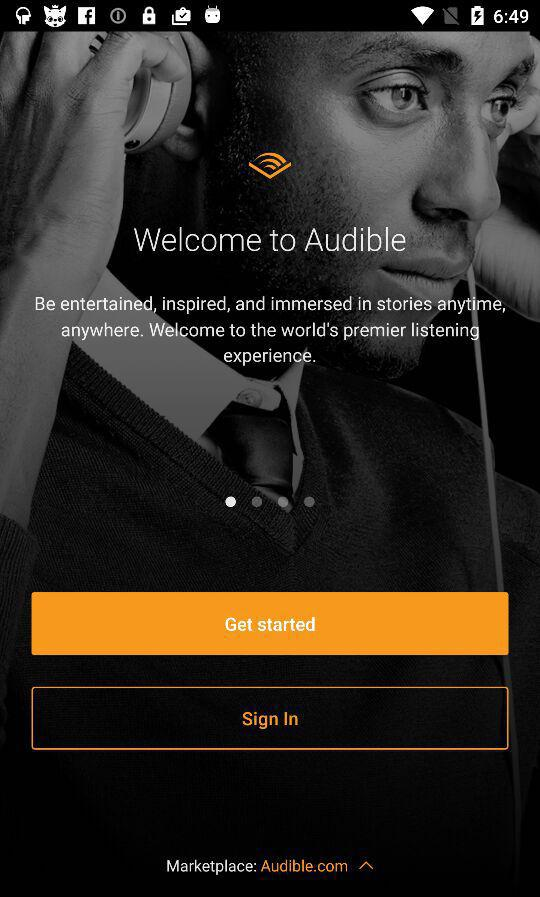BackgroundImage: (1, 33, 540, 897)
Icon: (358, 861, 374, 870)
Image: (249, 152, 292, 180)
PageIndicator: (224, 495, 317, 509)
Text: (36, 296, 506, 367), (134, 227, 407, 253), (167, 859, 348, 875)
TextButton: (32, 686, 509, 751), (32, 592, 509, 656)
UpperTaskBar: (1, 1, 540, 33)
